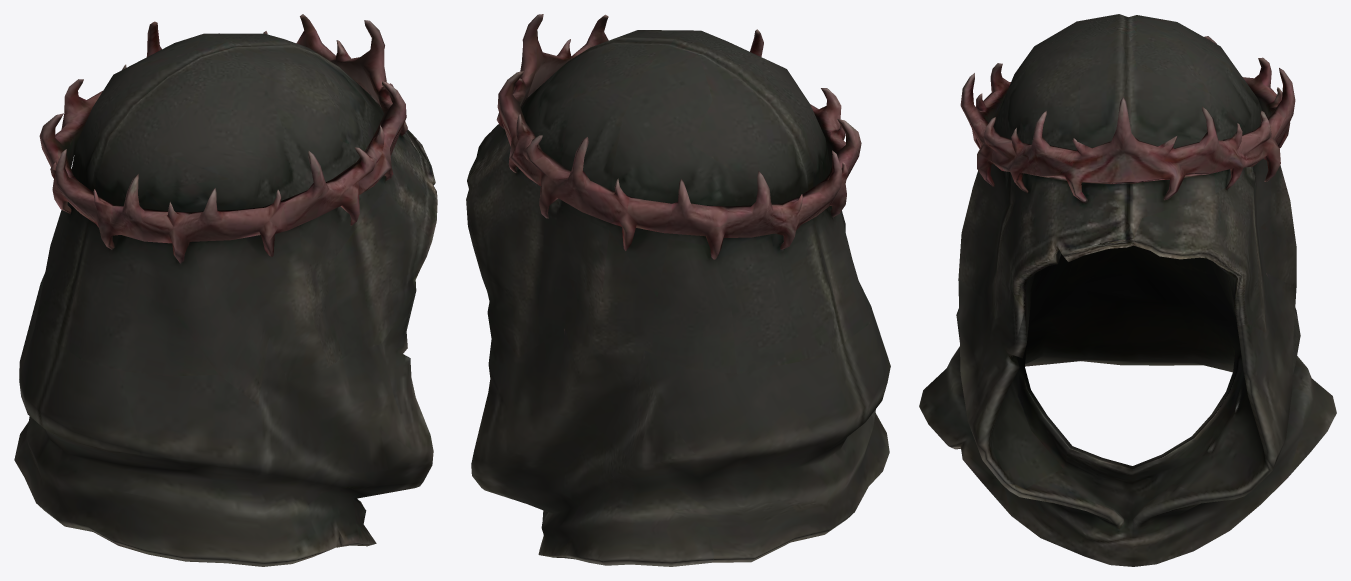
The model's file is necro_helm_hellsteel.glb.
3 renders of one model, left to right at view 1: azimuth 30°, elevation 25°; view 2: azimuth 150°, elevation 25°; view 3: azimuth 270°, elevation 25°, orthographic. The views are drawn at different scales.
Parts seen in each view (by area): view 1: tripo_node_1cee811b-685a-4c93-81e5-e6bbfc8ea472; view 2: tripo_node_1cee811b-685a-4c93-81e5-e6bbfc8ea472; view 3: tripo_node_1cee811b-685a-4c93-81e5-e6bbfc8ea472.
Boxes of the visible parts, <box> form: tripo_node_1cee811b-685a-4c93-81e5-e6bbfc8ea472: <box>14,14,437,566</box>; tripo_node_1cee811b-685a-4c93-81e5-e6bbfc8ea472: <box>466,14,890,566</box>; tripo_node_1cee811b-685a-4c93-81e5-e6bbfc8ea472: <box>919,14,1336,566</box>.
Size of the model in its own units: 0.7636 by 0.998 by 0.7871.
Materials: 1 (1 with a texture image).
